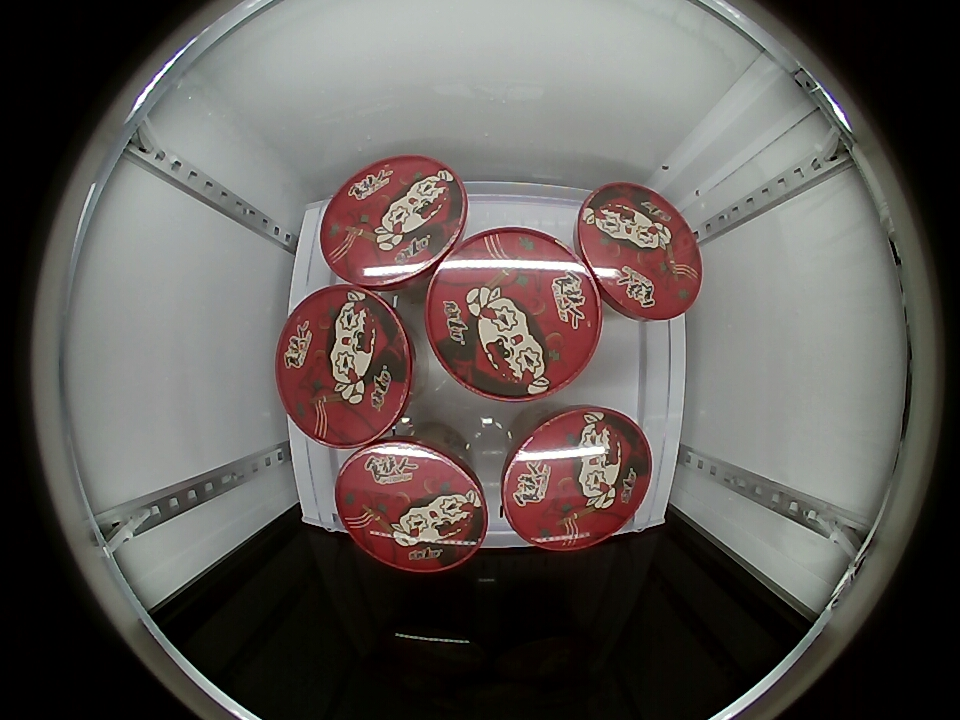suanlafen: (422, 226, 603, 402), (276, 284, 418, 447), (499, 406, 654, 551), (334, 437, 489, 572), (319, 156, 470, 290), (574, 183, 703, 322)
